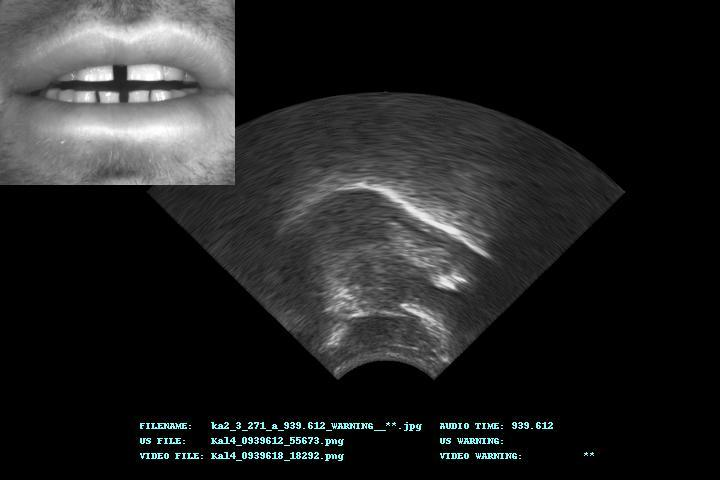-a-: (152, 95, 624, 378)
